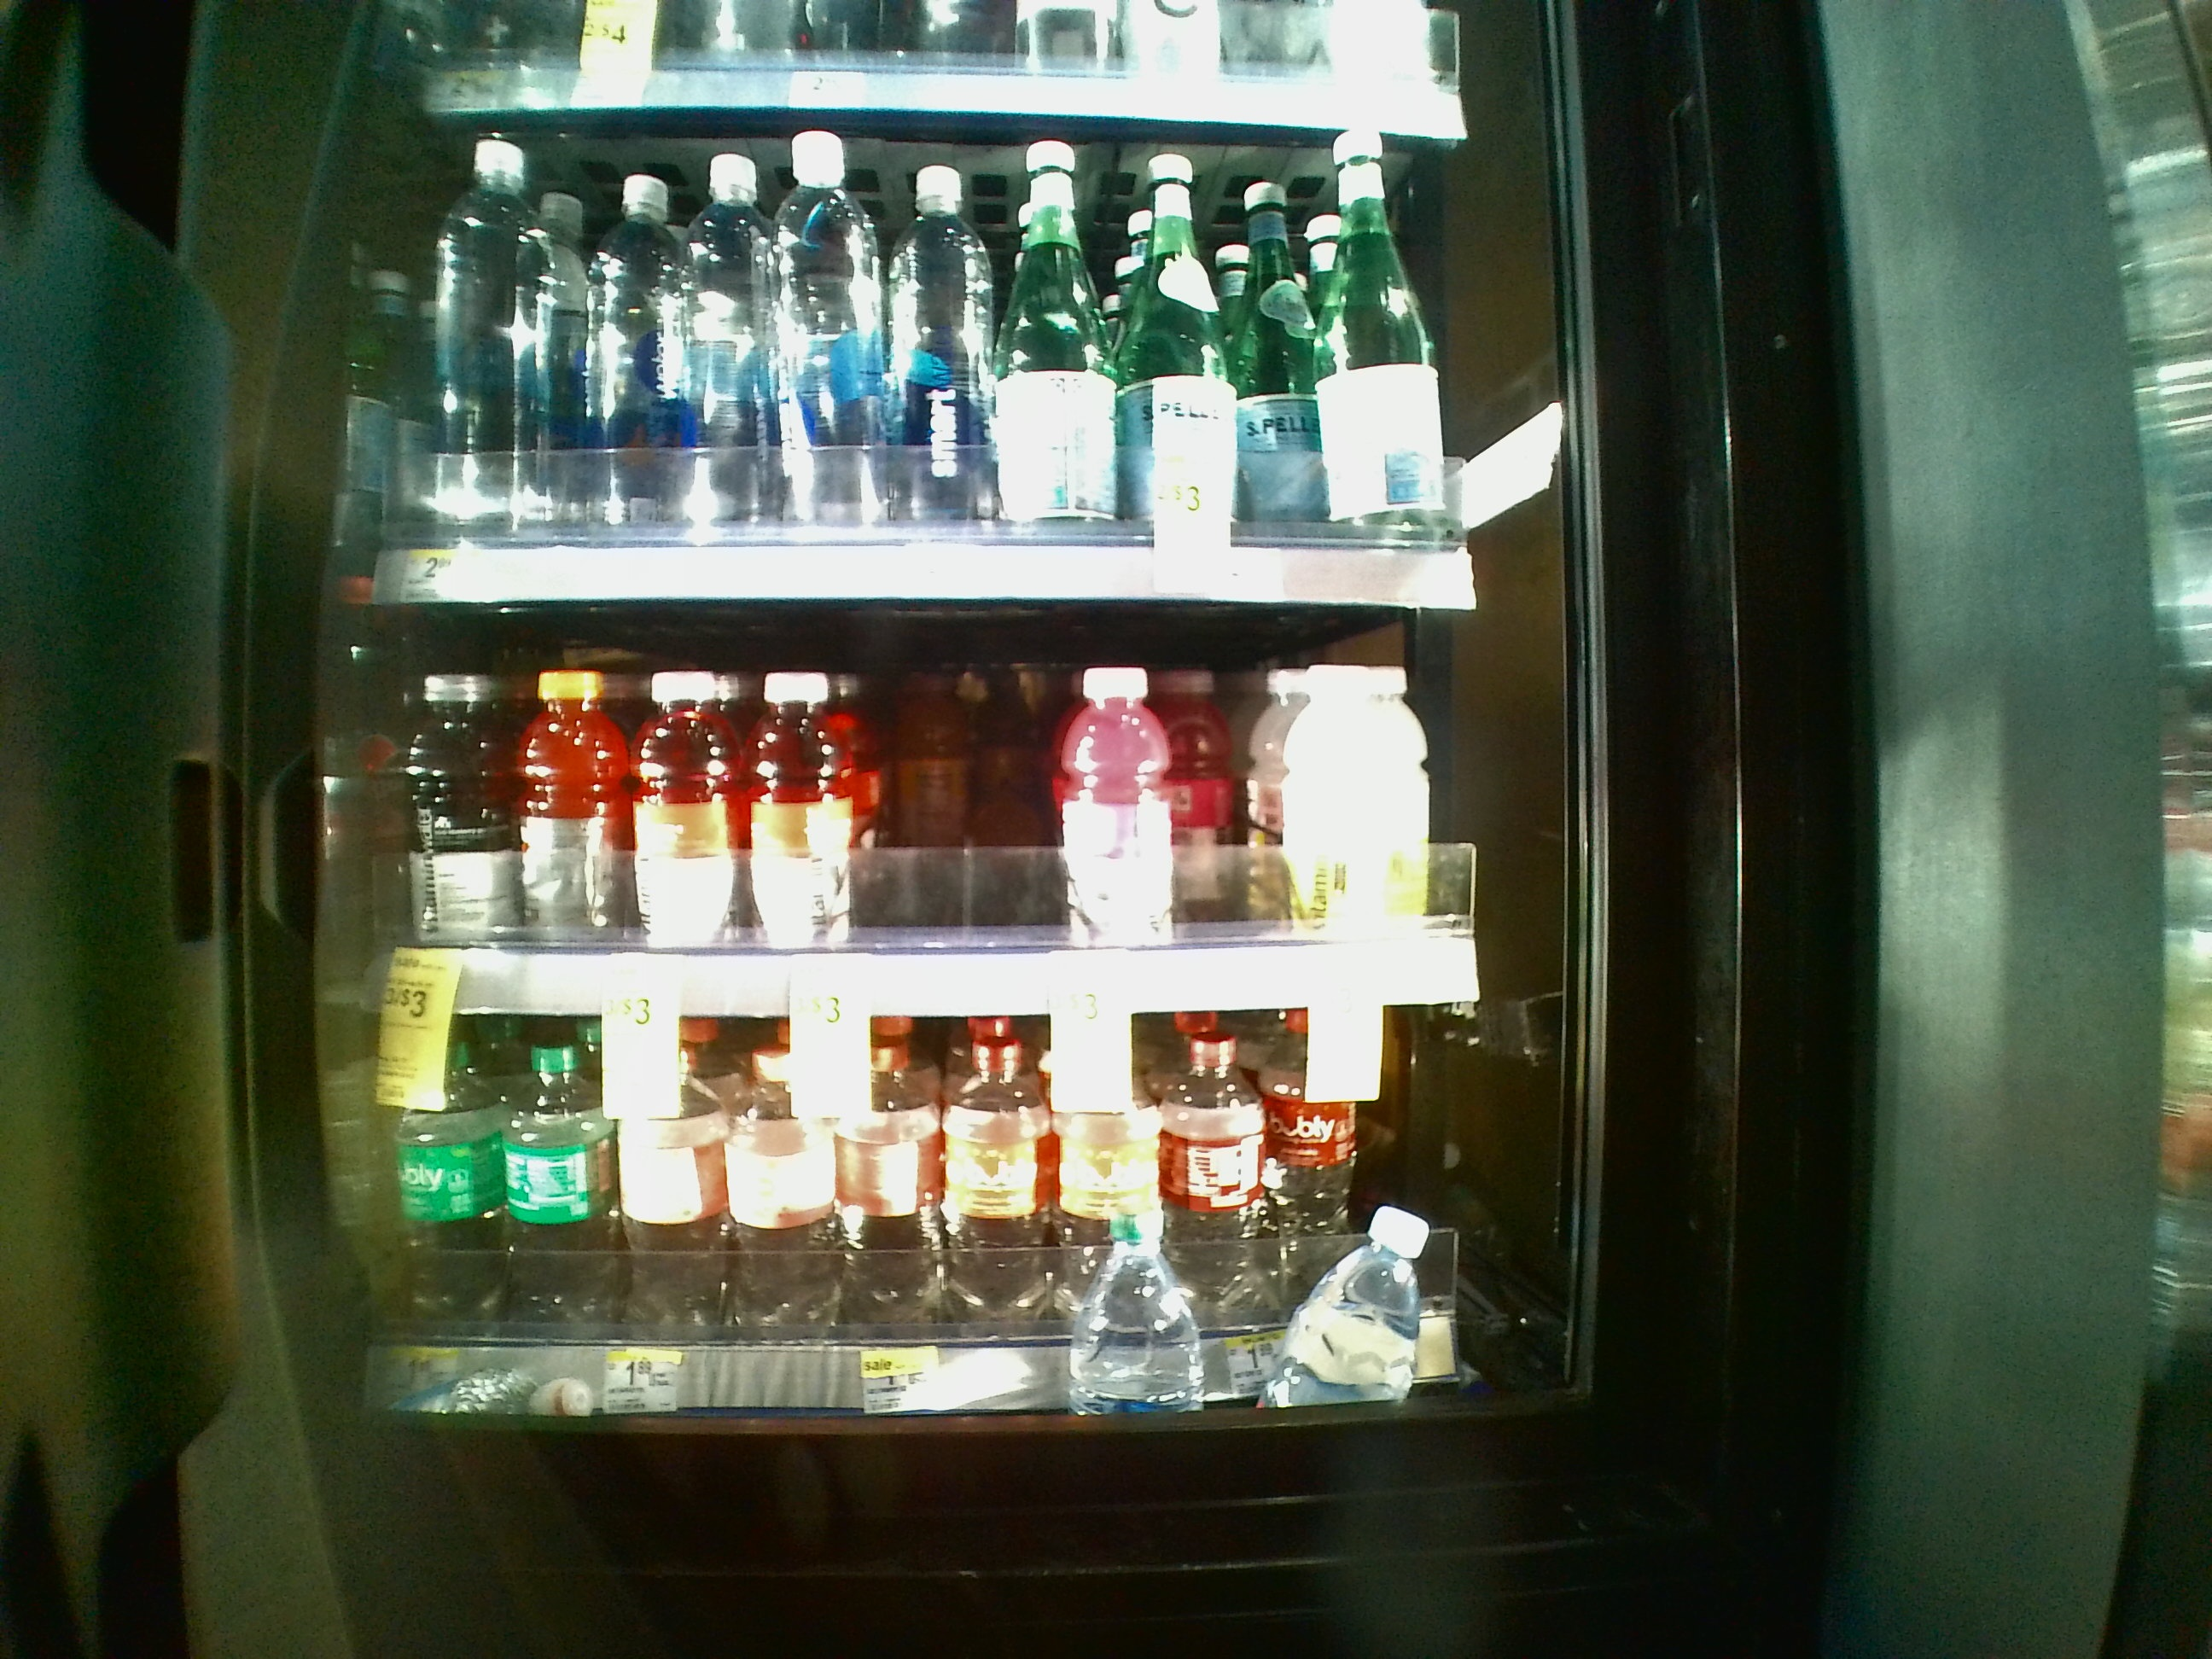Shelf: (275, 108, 1575, 612), (273, 617, 1594, 1023), (265, 1019, 1622, 1413)
